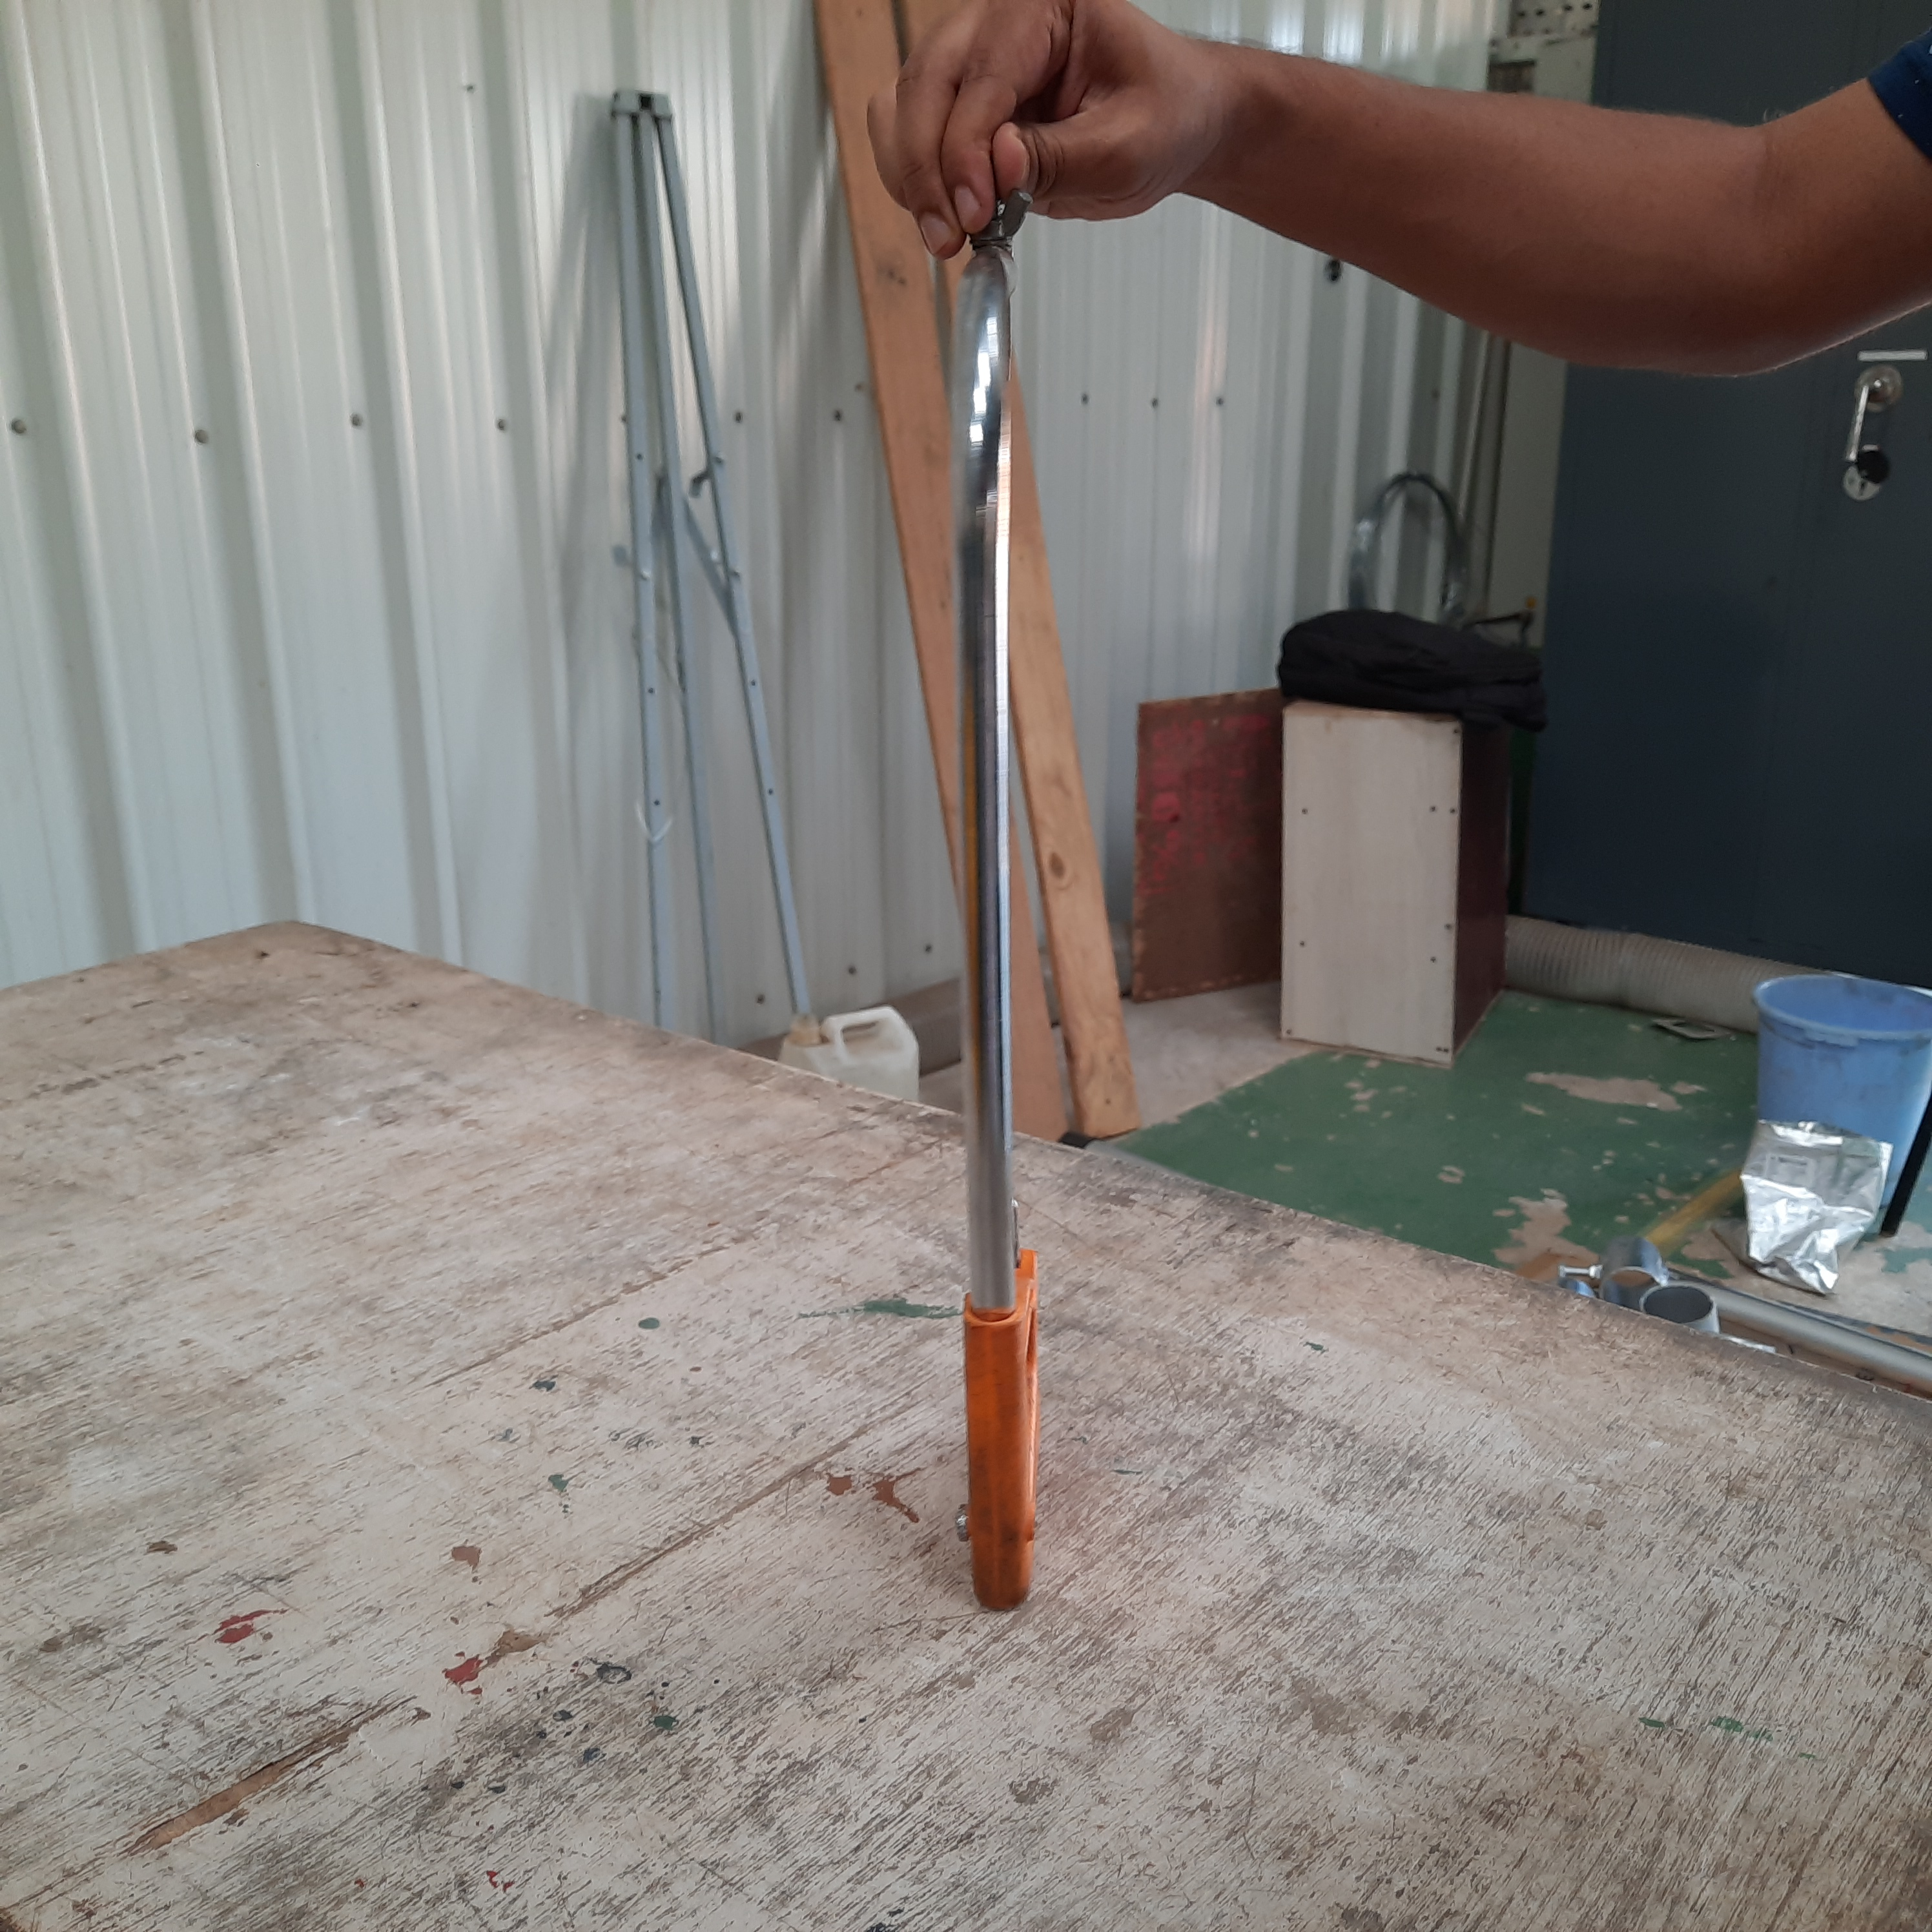Hexaframe: (892, 188, 1131, 1605)
